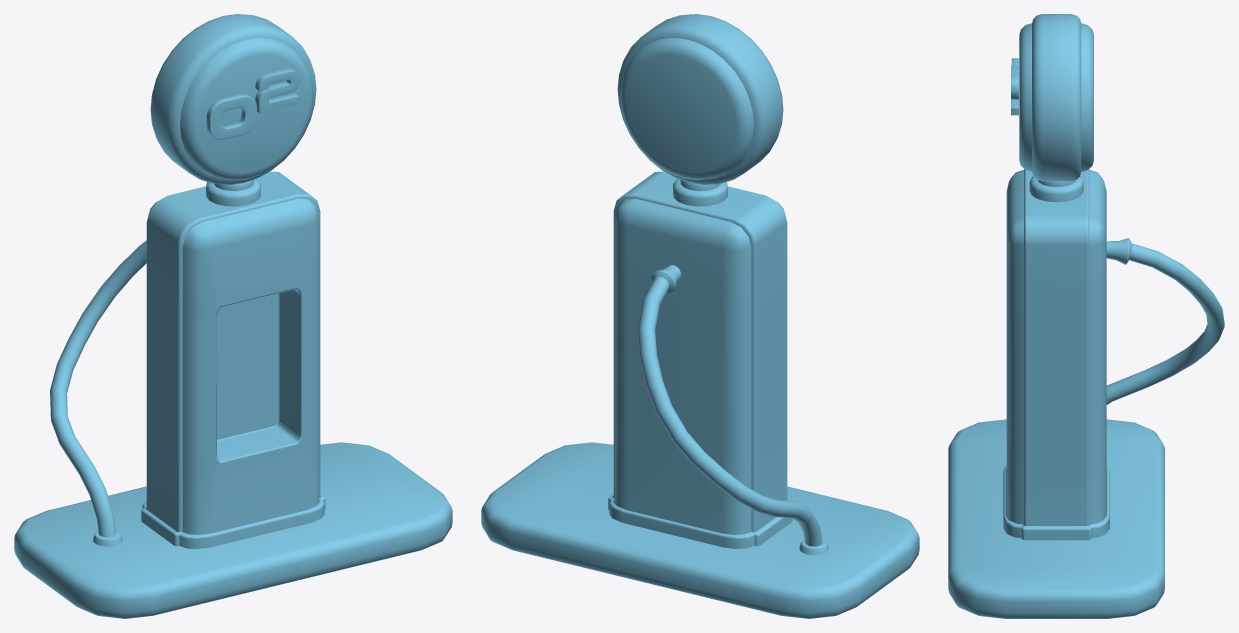
Rendered from BaasC.fbx.
The picture shows the model from 3 angles, left to right: view 1: azimuth 30°, elevation 25°; view 2: azimuth 150°, elevation 25°; view 3: azimuth 270°, elevation 25°; orthographic projection. The views are drawn at different scales.
Visible parts, largest first — view 1: Oxy Middle, Oxy bot, Cylinder.007; view 2: Oxy Middle, Oxy bot, Cylinder.007; view 3: Oxy Middle, Oxy bot, Cylinder.007.
Boxes of the visible parts, x1,y1,x2,y2 form: Oxy Middle: [141, 171, 325, 548]; Oxy bot: [14, 442, 452, 618]; Cylinder.007: [50, 14, 316, 546]; Oxy Middle: [608, 171, 792, 548]; Oxy bot: [481, 442, 919, 618]; Cylinder.007: [617, 14, 828, 555]; Oxy Middle: [1003, 169, 1109, 540]; Oxy bot: [948, 419, 1164, 618]; Cylinder.007: [1011, 14, 1224, 404].
Size of the model in its own units: 147 by 199 by 97.07.
